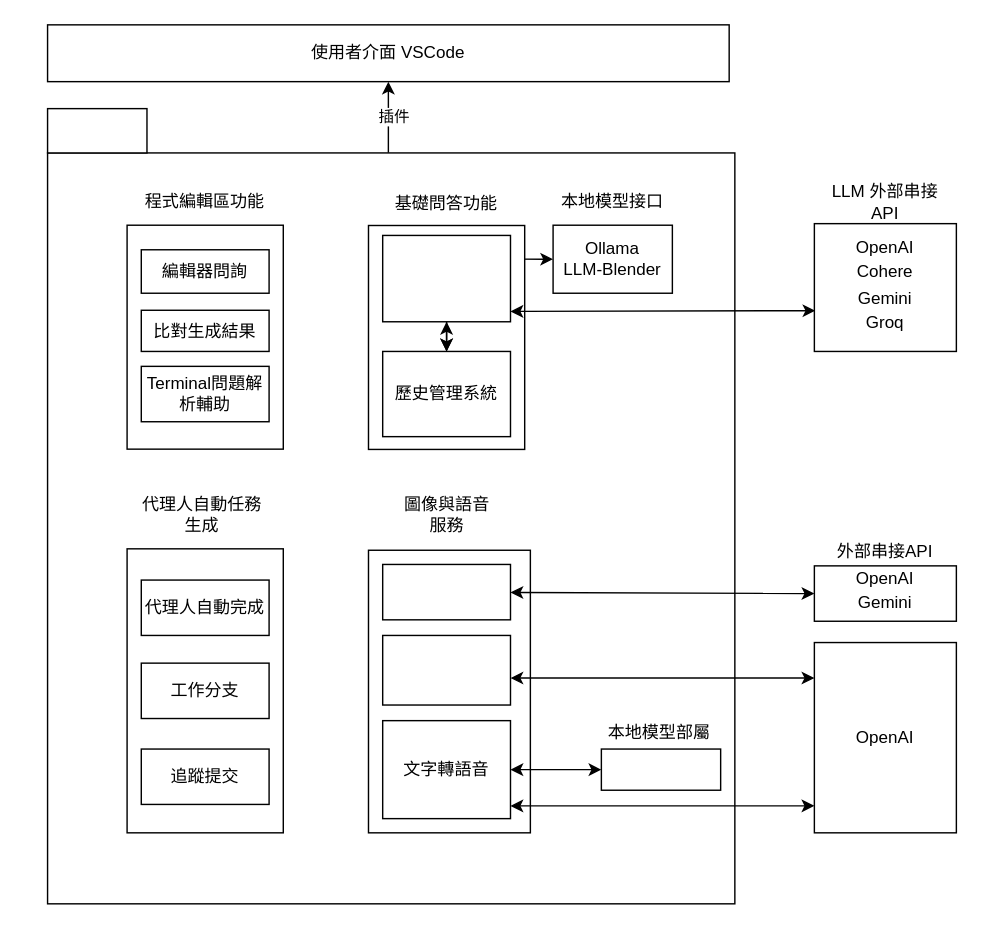
Some shapes in this 1008 by 929 pixel diagram are drawn without their labels. The shapes that lost their labels are listed below. From the top down, each one's box as (x1, y1, x2, y2) in pixels, then its label:
(46, 107, 147, 153): 系統
(381, 234, 510, 322): 基礎問答介面
(381, 563, 510, 620): 圖像分析
(381, 634, 510, 705): 語音轉文字
(600, 748, 721, 790): GPTSoviT
